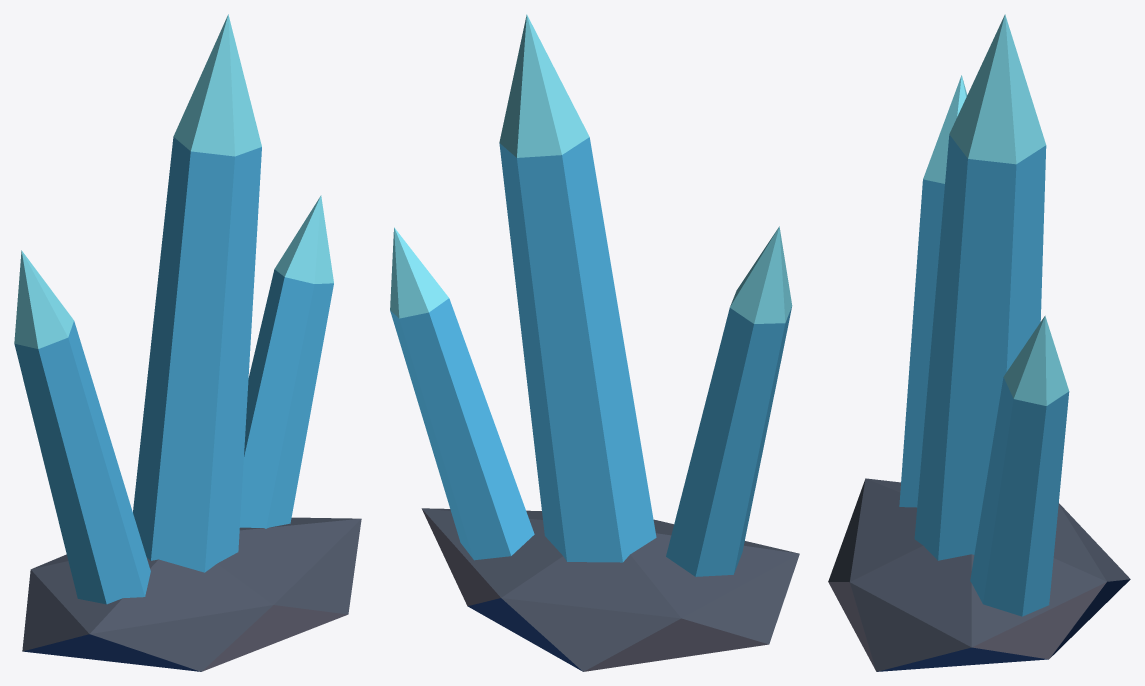
The model's file is Crystal_Spire_Tall.obj.
3 views of the same model, side by side, from view 1: azimuth 30°, elevation 25°; view 2: azimuth 150°, elevation 25°; view 3: azimuth 270°, elevation 25° (orthographic). The views are drawn at different scales.
Visible parts, largest first — view 1: Crystal_Spire_Tall; view 2: Crystal_Spire_Tall; view 3: Crystal_Spire_Tall.
Part boxes in pixels (x1,y1,x2,y2): Crystal_Spire_Tall: (14, 14, 361, 671); Crystal_Spire_Tall: (390, 14, 799, 671); Crystal_Spire_Tall: (828, 14, 1130, 671).
Bounding box in the file's own units: 3.98 × 6.2 × 2.72.
1 material, 1 textured.
